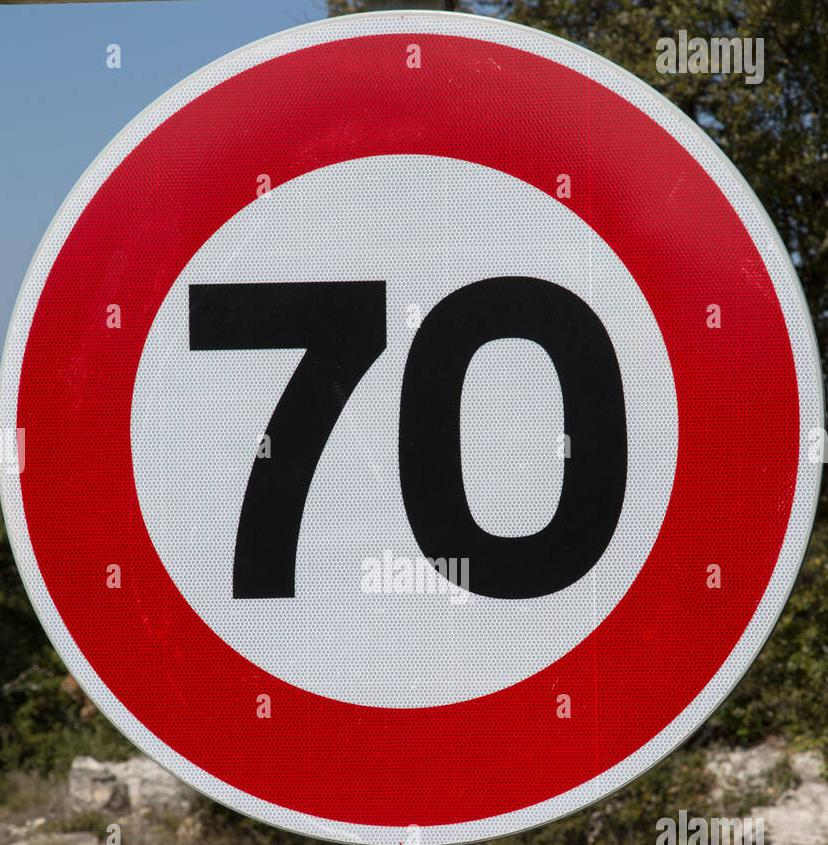Speed Limit -70-: (0, 1, 827, 844)
